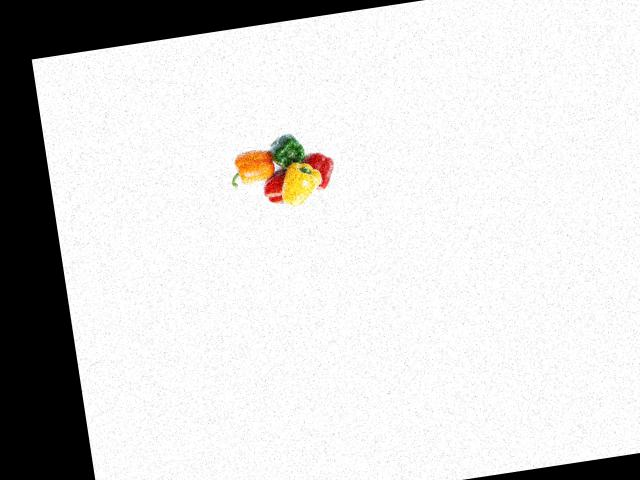bell_pepper: (265, 125, 315, 179)
